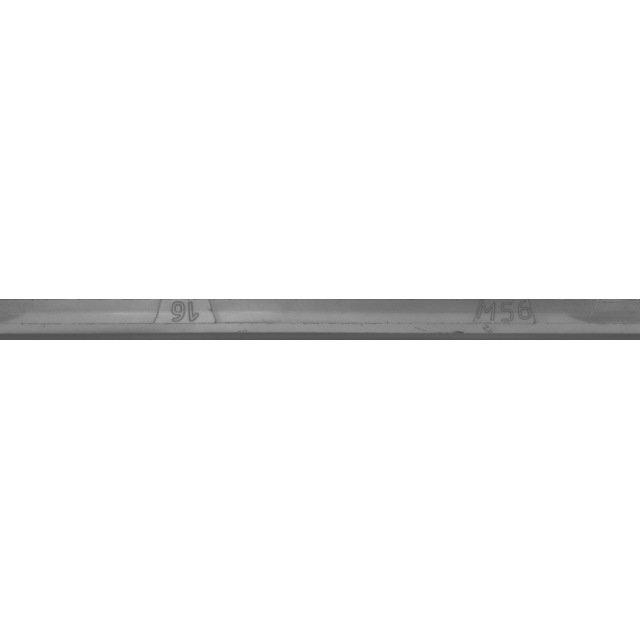mohao: (407, 270, 607, 370)
xuehao: (85, 270, 285, 370)
